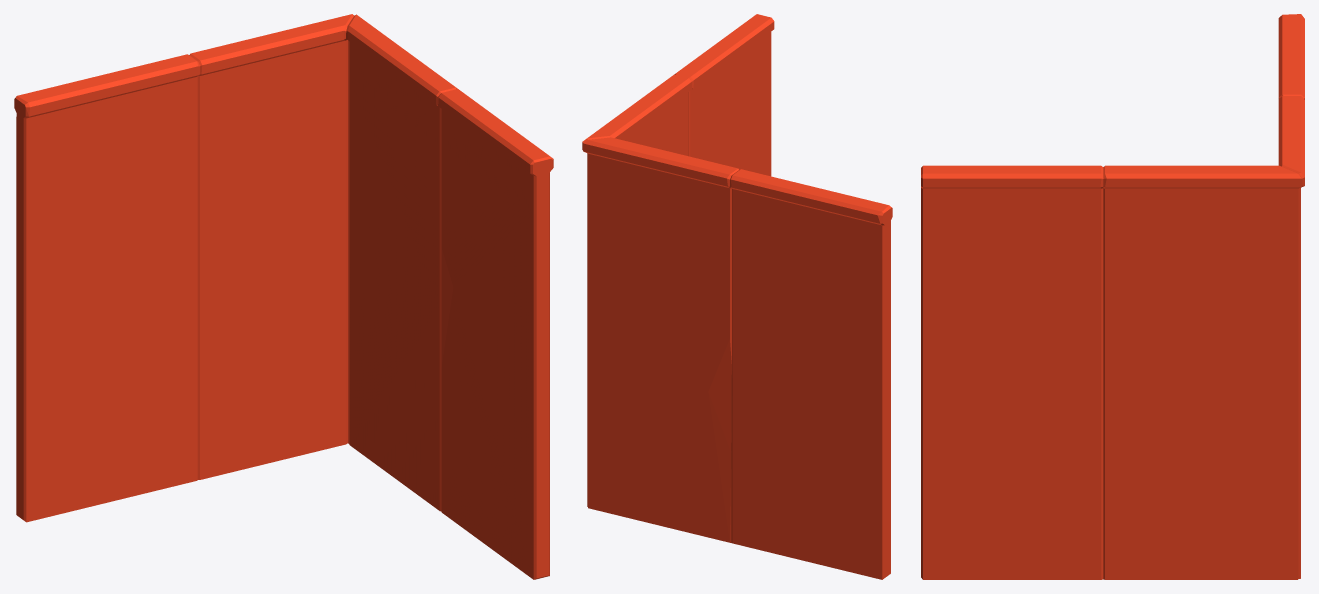
File: SM_Wall_B_Corner_Short_City.fbx
3 views of the same model, side by side, from view 1: azimuth 30°, elevation 25°; view 2: azimuth 150°, elevation 25°; view 3: azimuth 270°, elevation 25° (orthographic). The views are drawn at different scales.
Visible parts, largest first — view 1: SM_Wall_B_Corner_Short_City; view 2: SM_Wall_B_Corner_Short_City; view 3: SM_Wall_B_Corner_Short_City.
Boxes of the visible parts, x1,y1,x2,y2 form: SM_Wall_B_Corner_Short_City: (14, 14, 553, 579); SM_Wall_B_Corner_Short_City: (582, 14, 892, 579); SM_Wall_B_Corner_Short_City: (921, 14, 1304, 579).
Bounding box in the file's own units: 10.35 × 12.1 × 10.36.
